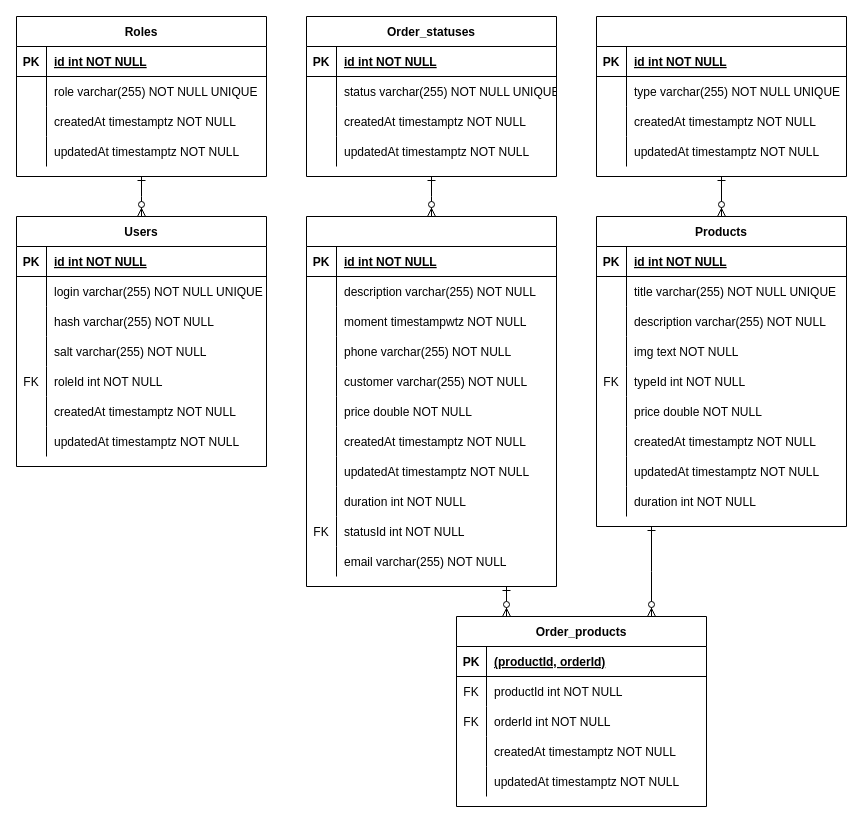
Some shapes in this 863 by 823 pixel diagram are drawn without their labels. Here are the shapes that lost their labels. From the top down, the box of each, then its label:
(596, 16, 846, 176): Product_types
(306, 216, 556, 586): Orders
